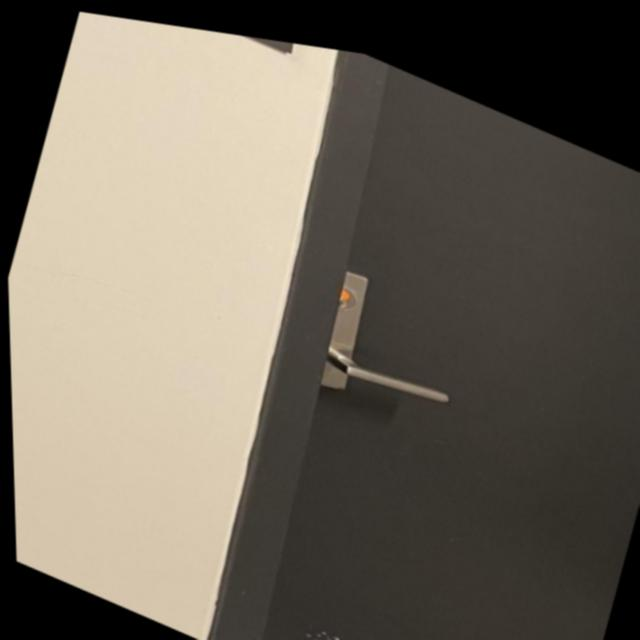door_handle: (300, 312, 462, 428)
